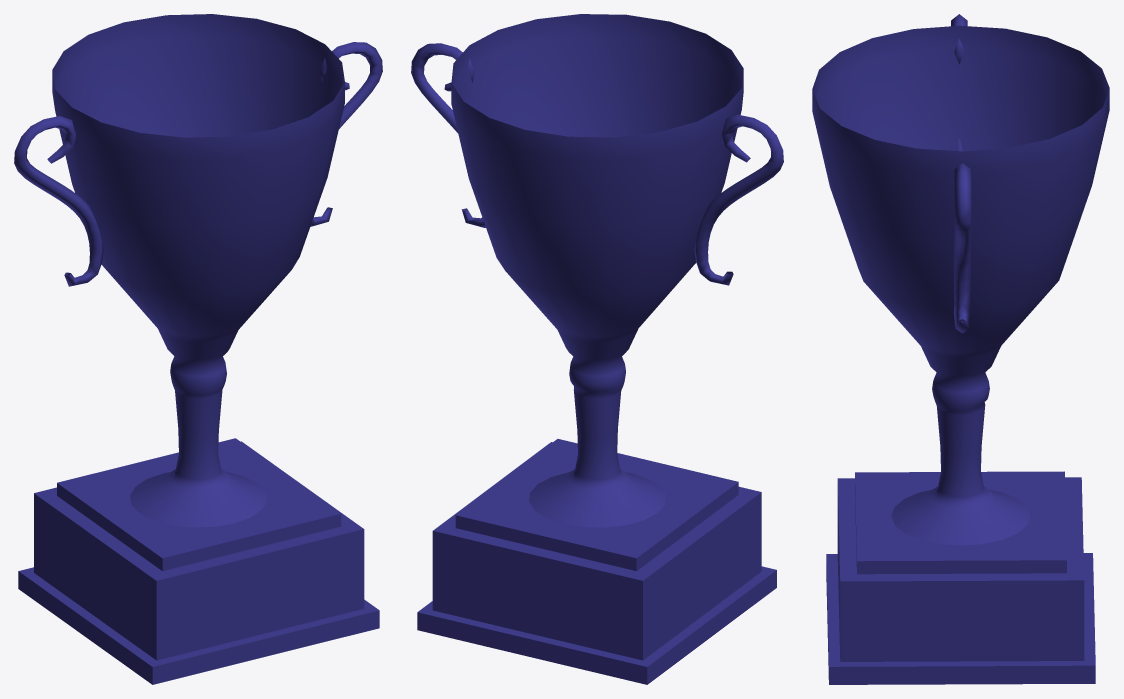
File: Trophy_1.fbx
3 renders of one model, left to right at view 1: azimuth 30°, elevation 25°; view 2: azimuth 150°, elevation 25°; view 3: azimuth 270°, elevation 25°, orthographic.
Visible parts, largest first — view 1: Trophy_1; view 2: Trophy_1; view 3: Trophy_1.
Boxes of the visible parts, x1=… form: Trophy_1: x1=14, y1=14, x2=382, y2=684; Trophy_1: x1=411, y1=14, x2=783, y2=684; Trophy_1: x1=812, y1=14, x2=1109, y2=684.
Bounding box in the file's own units: 98.91 × 136 × 67.94.
